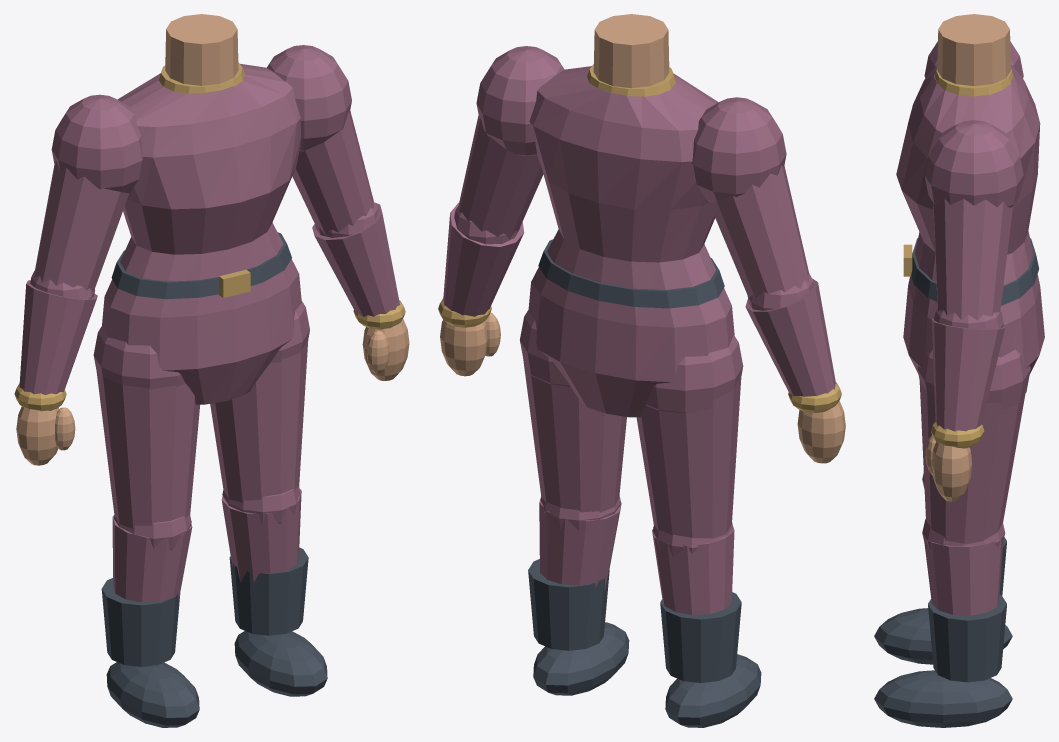
File: female-body.glb
3 views of the same model, side by side, from view 1: azimuth 30°, elevation 25°; view 2: azimuth 150°, elevation 25°; view 3: azimuth 270°, elevation 25° (orthographic). The views are drawn at different scales.
Visible parts, largest first — view 1: Torso and hips, Thigh (×2), Upper sleeve (×2), Shoulder (×2), Forearm sleeve (×2), Boot shaft (×2), Boot foot (×2), Shin (×2), Neck, Hip (×2), Hand (×2), Waist belt (+6 smaller); view 2: Torso and hips, Thigh (×2), Upper sleeve (×2), Shoulder (×2), Forearm sleeve (×2), Boot shaft (×2), Shin (×2), Boot foot (×2), Hip (×2), Neck, Hand (×2), Waist belt (+4 smaller); view 3: Torso and hips, Boot foot (×2), Upper sleeve, Thigh, Shoulder (×2), Forearm sleeve, Boot shaft, Shin, Neck, Hip, Hand, Waist belt (+5 smaller).
Boxes of the visible parts, left/top/right/bottom form: Torso and hips: left=102, top=64, right=301, bottom=404; Thigh (×2): left=96, top=340, right=308, bottom=528; Upper sleeve (×2): left=34, top=111, right=373, bottom=291; Shoulder (×2): left=51, top=45, right=351, bottom=193; Forearm sleeve (×2): left=19, top=202, right=399, bottom=394; Boot shaft (×2): left=101, top=547, right=308, bottom=666; Boot foot (×2): left=106, top=631, right=327, bottom=727; Shin (×2): left=112, top=488, right=301, bottom=602; Neck: left=165, top=14, right=238, bottom=85; Hip (×2): left=93, top=301, right=309, bottom=389; Hand (×2): left=16, top=318, right=409, bottom=465; Waist belt: left=111, top=232, right=291, bottom=299; Torso and hips: left=528, top=66, right=734, bottom=417; Thigh (×2): left=523, top=360, right=741, bottom=538; Upper sleeve (×2): left=458, top=115, right=809, bottom=298; Shoulder (×2): left=476, top=46, right=786, bottom=202; Forearm sleeve (×2): left=443, top=202, right=835, bottom=396; Boot shaft (×2): left=528, top=559, right=741, bottom=682; Shin (×2): left=539, top=496, right=734, bottom=614; Boot foot (×2): left=533, top=622, right=761, bottom=727; Hip (×2): left=520, top=310, right=743, bottom=413; Neck: left=593, top=14, right=669, bottom=88; Hand (×2): left=440, top=320, right=845, bottom=463; Waist belt: left=538, top=239, right=724, bottom=308; Torso and hips: left=896, top=65, right=1044, bottom=373; Boot foot (×2): left=874, top=608, right=1012, bottom=727; Upper sleeve: left=933, top=198, right=1012, bottom=320; Thigh: left=919, top=380, right=1025, bottom=544; Shoulder (×2): left=924, top=41, right=1023, bottom=207; Forearm sleeve: left=931, top=318, right=1004, bottom=431; Boot shaft: left=928, top=595, right=1006, bottom=682; Shin: left=923, top=536, right=1002, bottom=615; Neck: left=937, top=14, right=1010, bottom=86; Hip: left=917, top=349, right=1030, bottom=409; Hand: left=931, top=442, right=972, bottom=501; Waist belt: left=911, top=238, right=1039, bottom=305.
Size of the model in its own units: 0.954 by 1.55 by 0.362.
